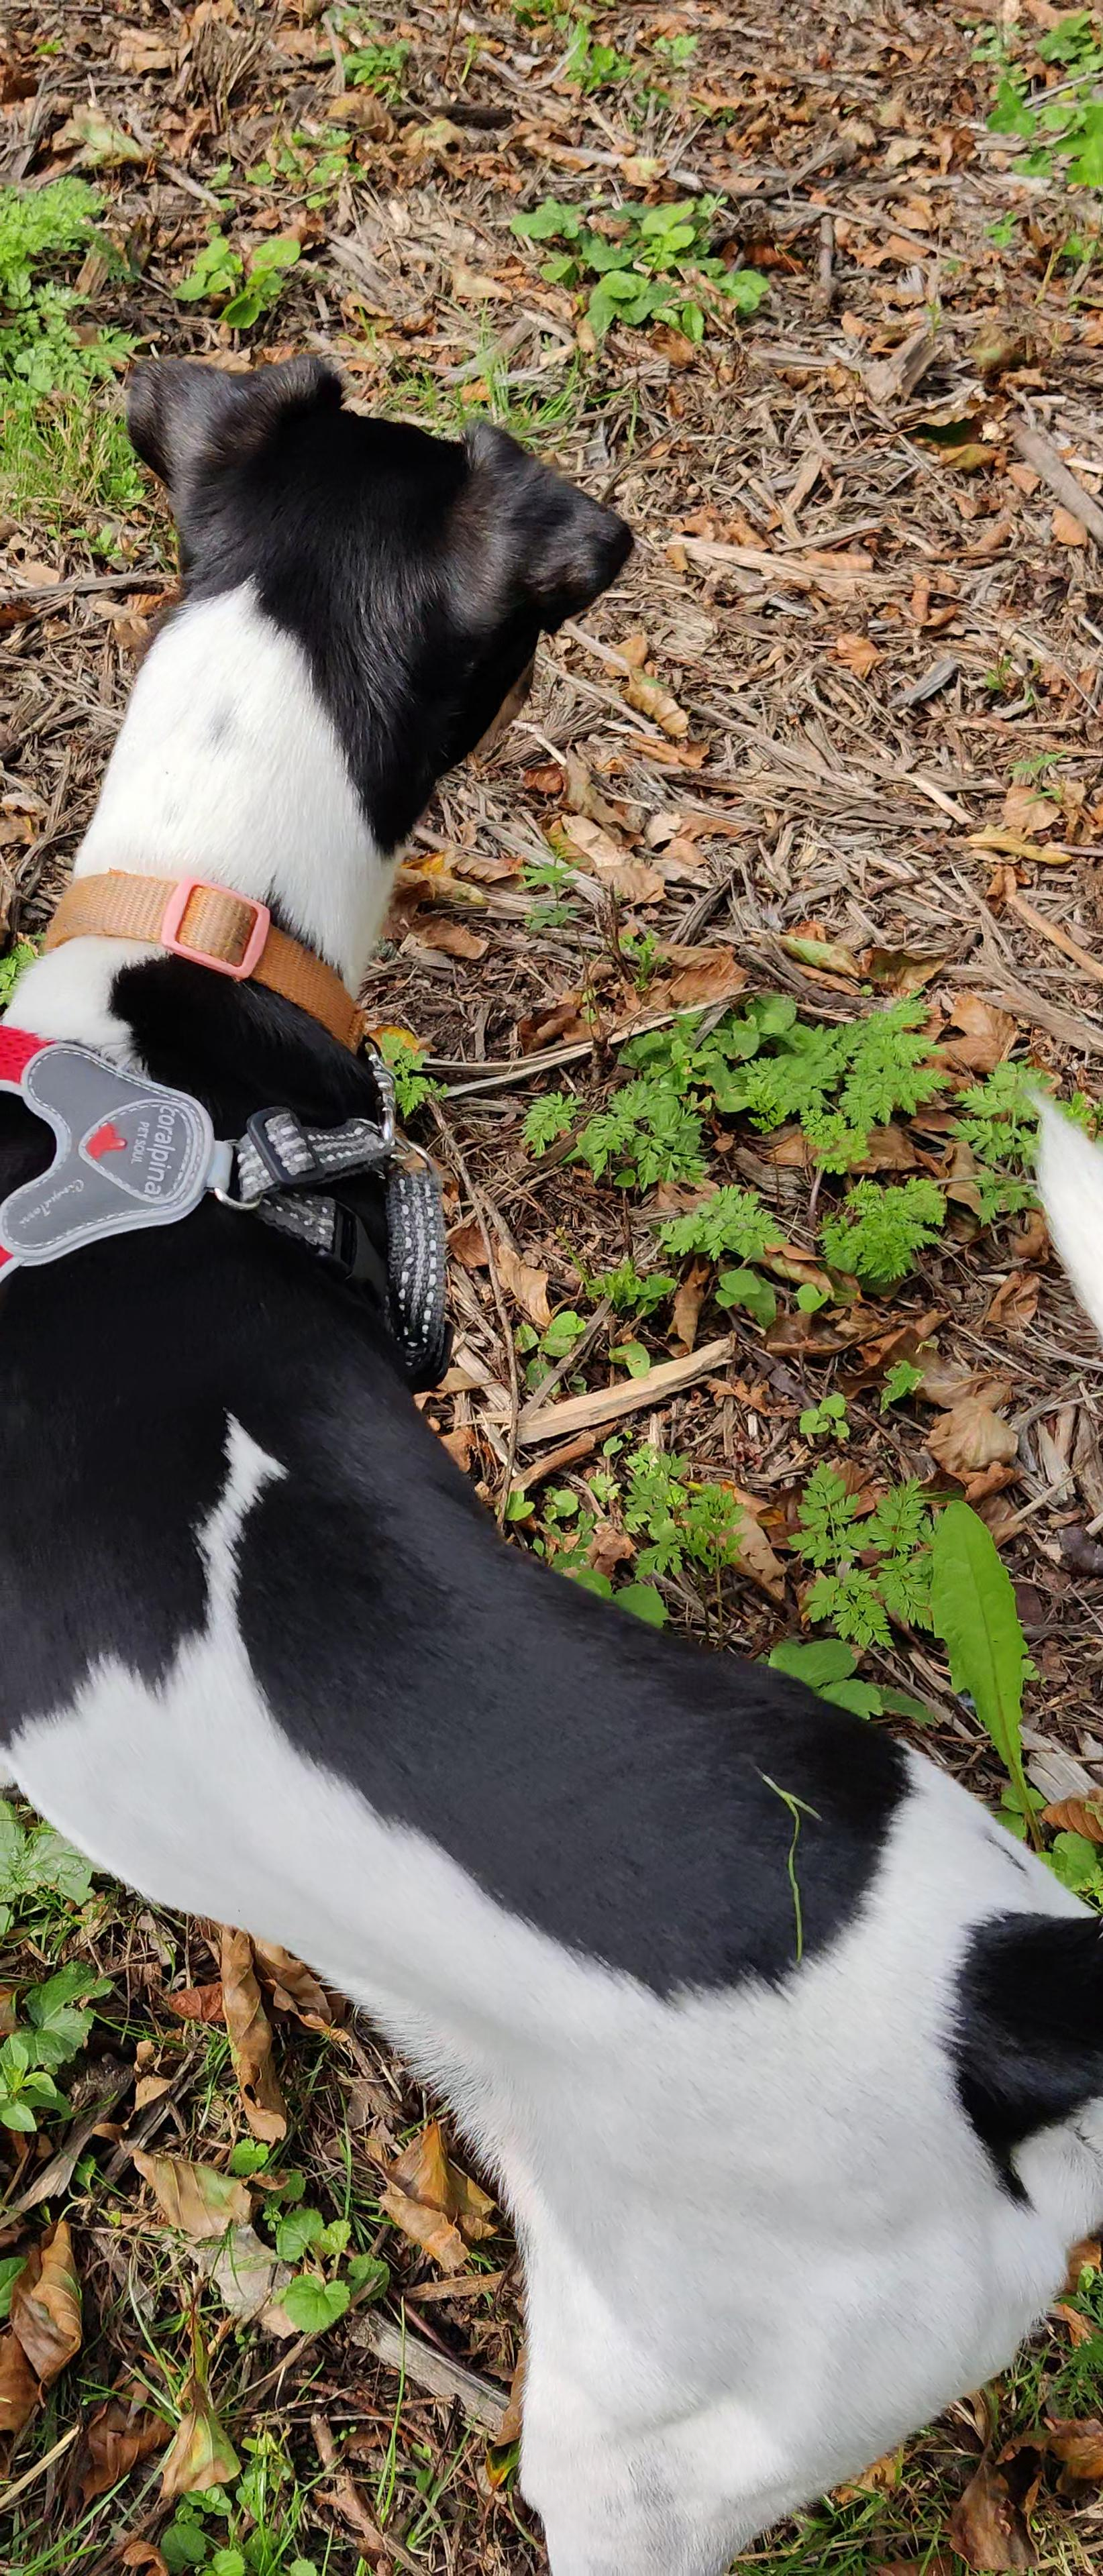Dog: (0, 340, 1103, 2576)
